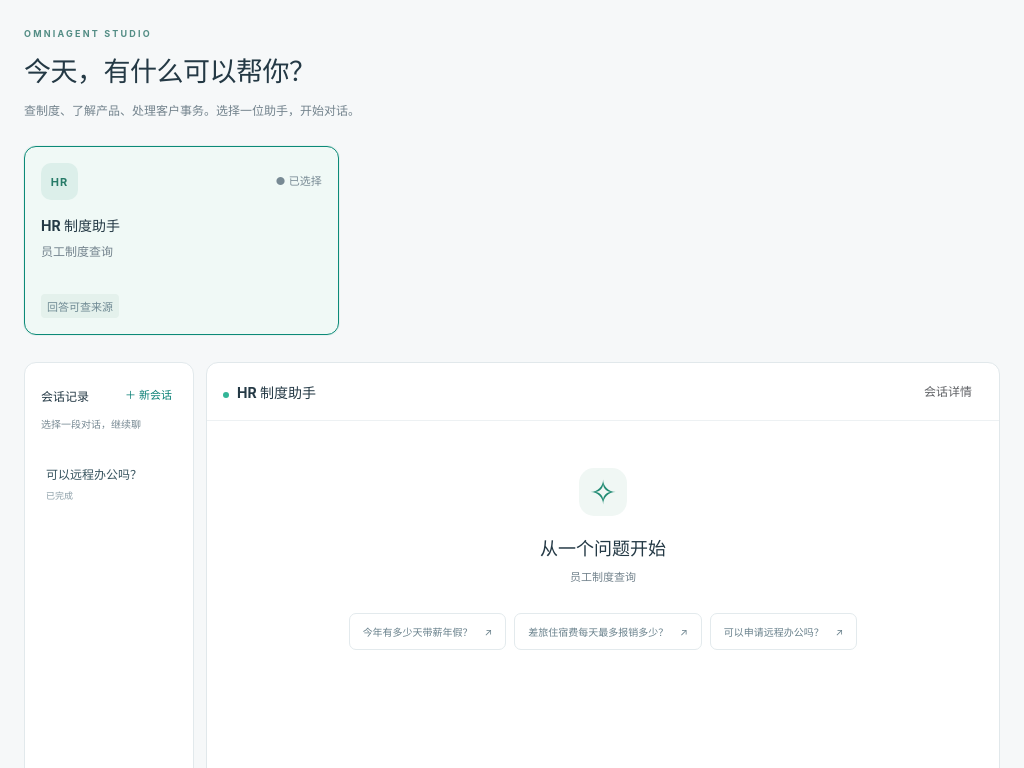
Test: presents cited text and location without internal metadata or rendering document HTML
What coordinates should you click on to do the following:
click the button with class "session-item"
I would click on:
 (109, 484)
Its box is [25,451,193,516].
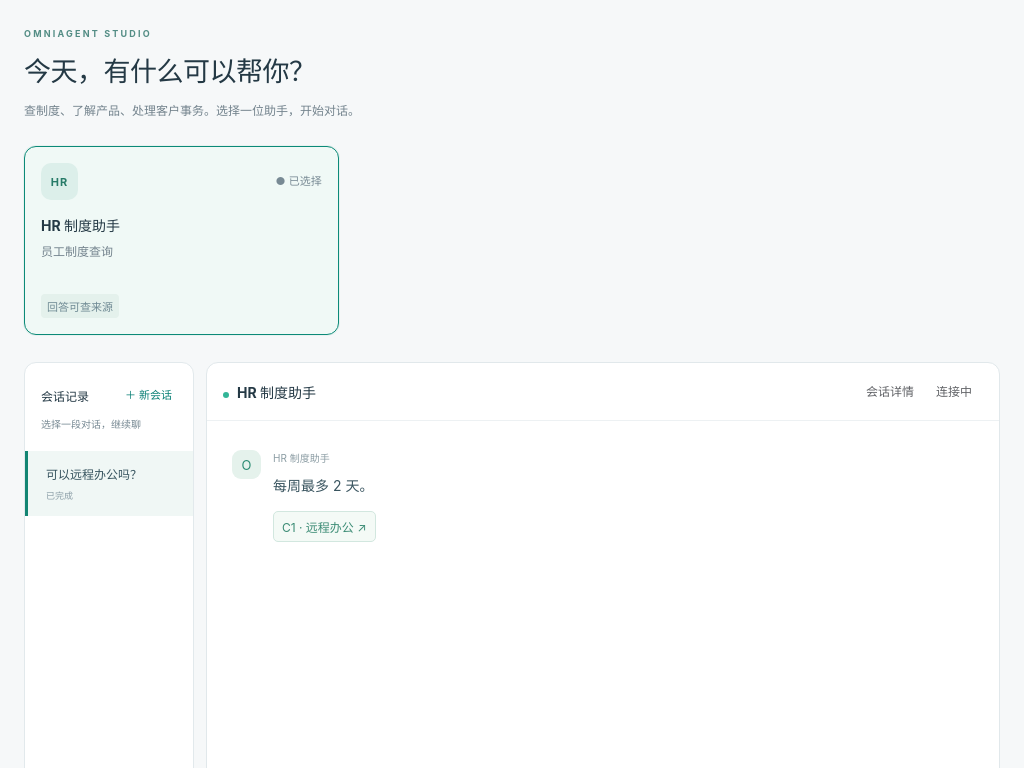
Now the button with class "citation-chip" shows "C1 · 远程办公"
What coordinates should you click on to do the following:
click the button with class "citation-chip"
I would click on:
 (324, 527)
Its box is [273,511,376,542].
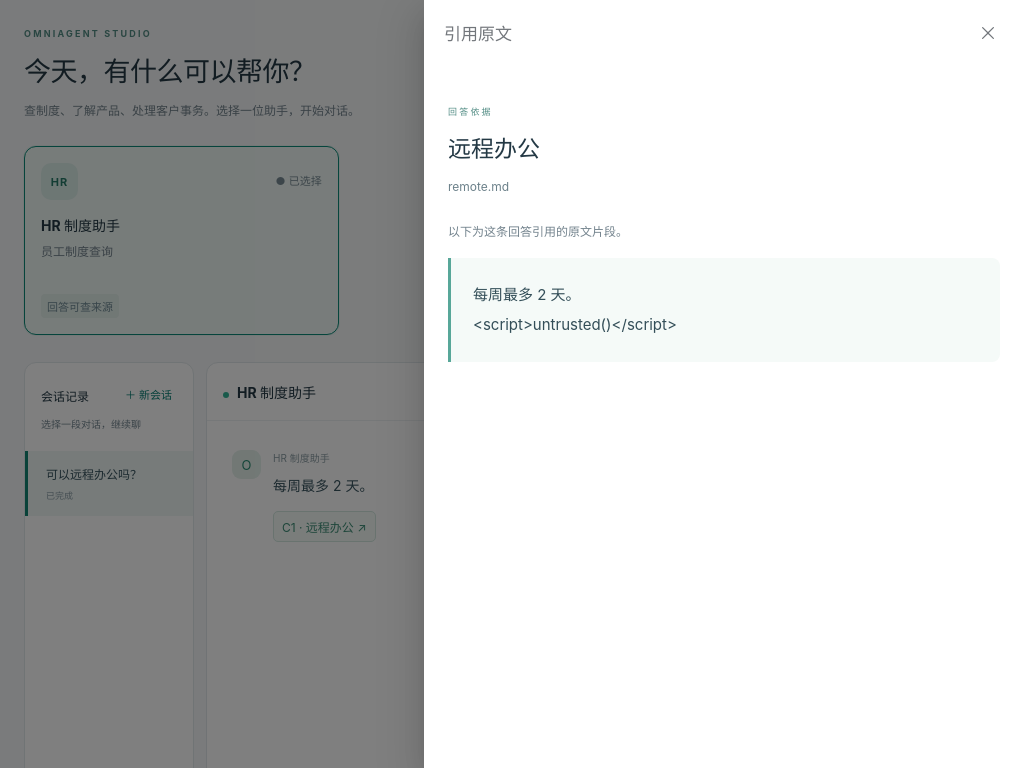
Now the element with class "citation-document" shows "remote.md", box [448,178,509,194]
